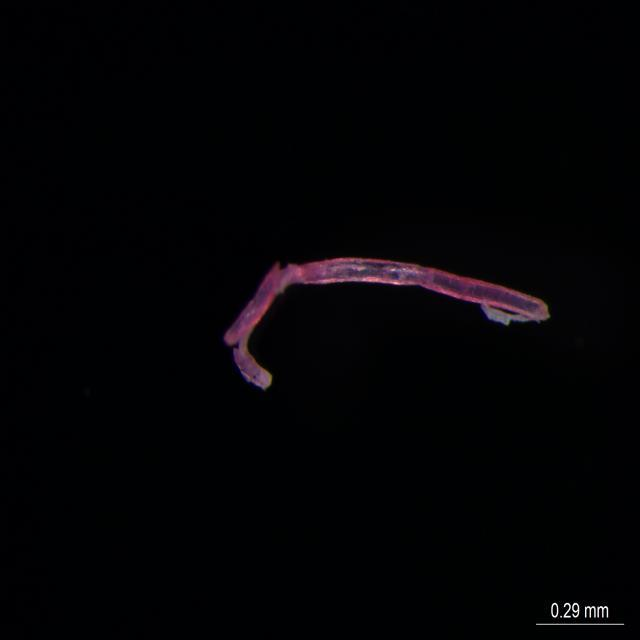fibers: (209, 202, 552, 396)
